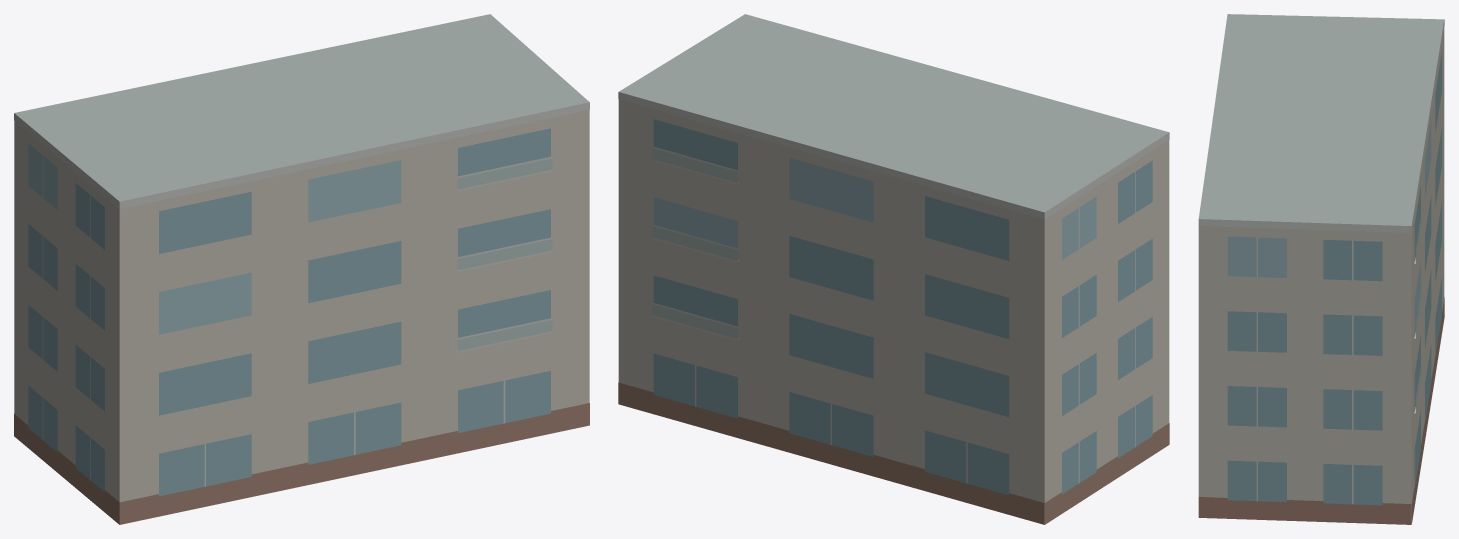
The model's file is survey-upis-32885176.glb.
3 renders of one model, left to right at view 1: azimuth 30°, elevation 25°; view 2: azimuth 150°, elevation 25°; view 3: azimuth 270°, elevation 25°, orthographic. The views are drawn at different scales.
Parts seen in each view (by area): view 1: survey-upis-32885176.tmp; view 2: survey-upis-32885176.tmp; view 3: survey-upis-32885176.tmp.
Part boxes in pixels (box(x1,y1,x2,y2)): survey-upis-32885176.tmp: box(14, 14, 589, 524); survey-upis-32885176.tmp: box(618, 14, 1169, 524); survey-upis-32885176.tmp: box(1198, 14, 1444, 524).
Size of the model in its own units: 16.08 by 10.55 by 7.87.
